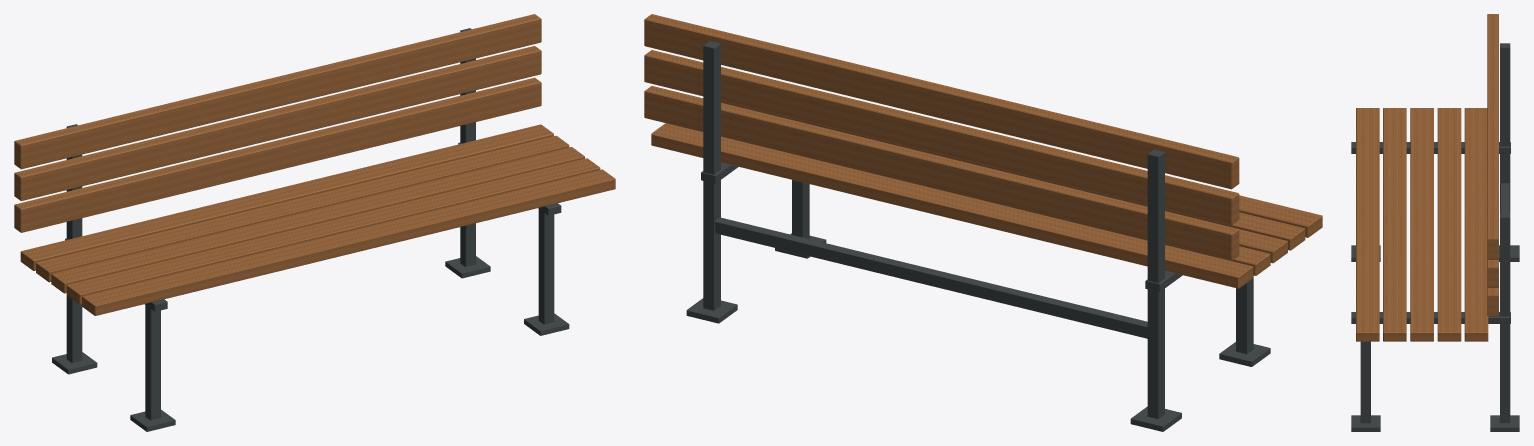
Rendered from prop_bench_campus_001.glb.
The picture shows the model from 3 angles, left to right: view 1: azimuth 30°, elevation 25°; view 2: azimuth 150°, elevation 25°; view 3: azimuth 270°, elevation 25°; orthographic projection. The views are drawn at different scales.
Visible parts, largest first — view 1: Bench_Wood, Bench_Metal; view 2: Bench_Wood, Bench_Metal; view 3: Bench_Wood, Bench_Metal.
Boxes of the visible parts, bbox=[...] form: Bench_Wood: bbox=[14, 14, 615, 315]; Bench_Metal: bbox=[52, 28, 569, 431]; Bench_Wood: bbox=[644, 14, 1322, 288]; Bench_Metal: bbox=[686, 41, 1270, 431]; Bench_Wood: bbox=[1356, 14, 1498, 341]; Bench_Metal: bbox=[1351, 43, 1519, 431].
Size of the model in its own units: 1.8 by 0.8 by 0.57.
Materials: 2 (1 with a texture image).
